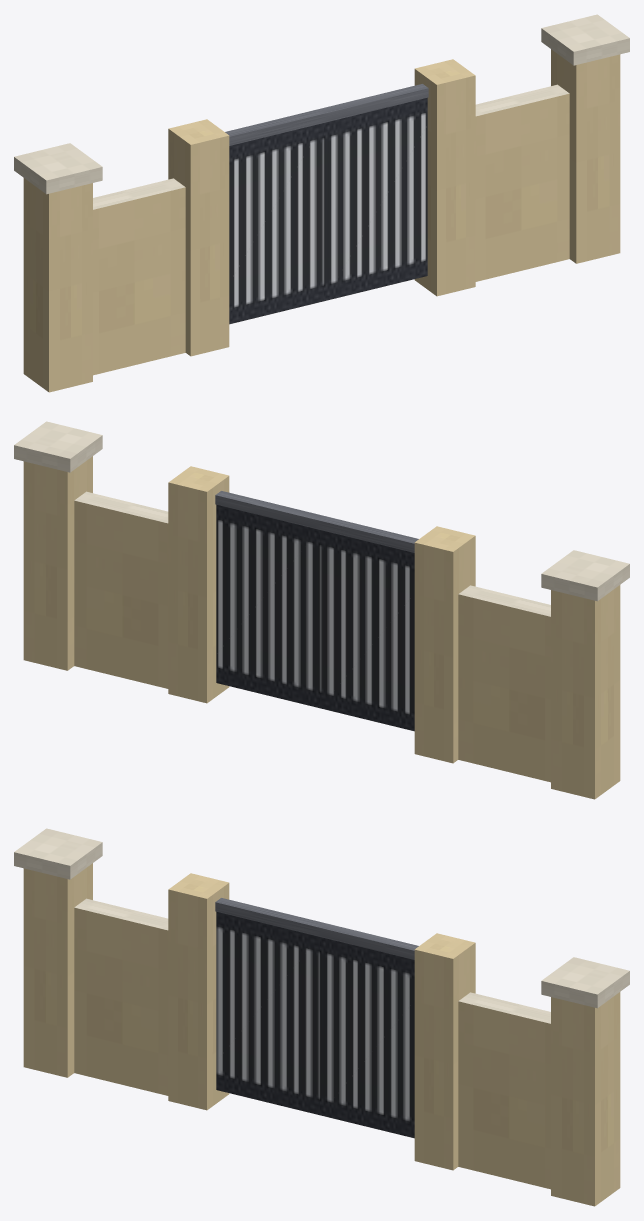
The model's file is fencegate-cream-far.glb.
The picture shows the model from 3 angles, top to bottom: view 1: azimuth 30°, elevation 25°; view 2: azimuth 150°, elevation 25°; view 3: azimuth 330°, elevation 25°; orthographic projection.
Parts seen in each view (by area): view 1: fencegate-cream-far; view 2: fencegate-cream-far; view 3: fencegate-cream-far.
Part boxes in pixels (x1,y1,x2,y2): fencegate-cream-far: (14,14,629,392); fencegate-cream-far: (14,421,629,799); fencegate-cream-far: (14,828,629,1206).
Size of the model in its own units: 6.64 by 2.35 by 0.64.
Materials: 1 (1 with a texture image).
